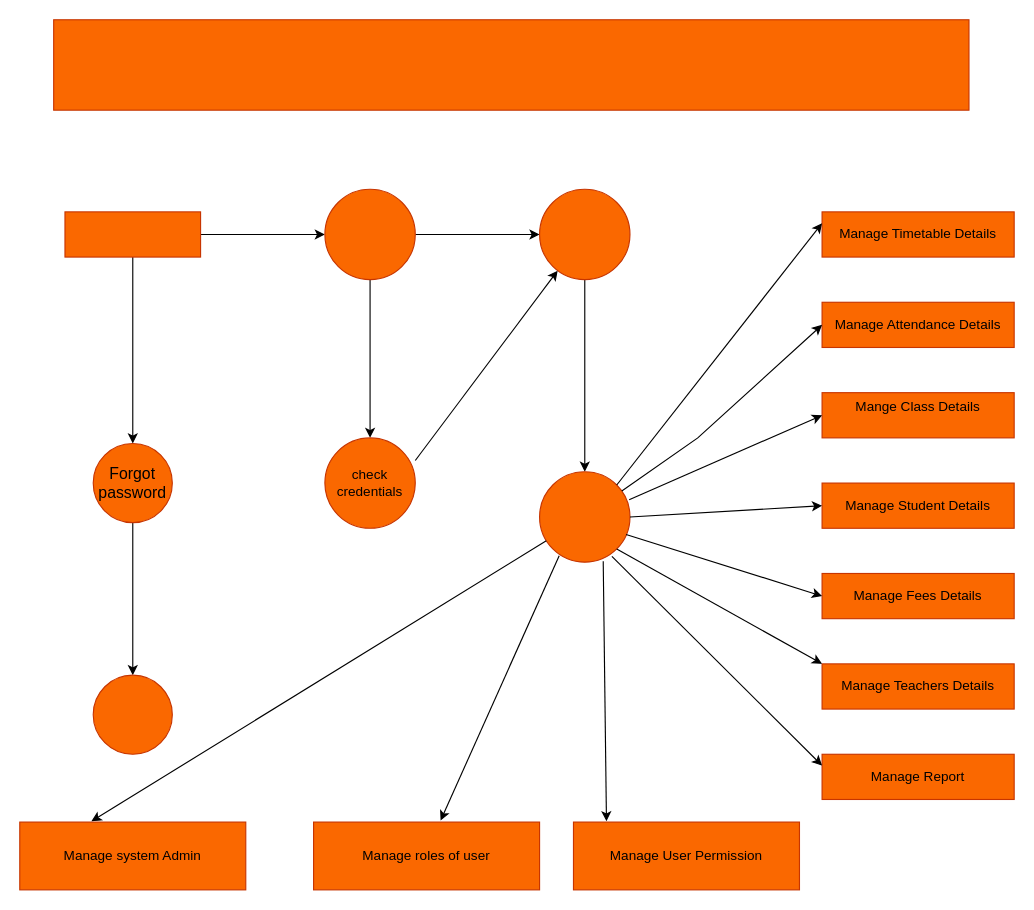
This 1034x910 diagram has some shape labels left out. The centre of each missing label's shape, as x and y in pixels:
Admin: (x=132, y=234)
check roles of access: (x=584, y=234)
Login in system: (x=369, y=234)
Manage Modules: (x=584, y=516)
Send Email to User: (x=132, y=714)
Student Information System: (x=511, y=64)
